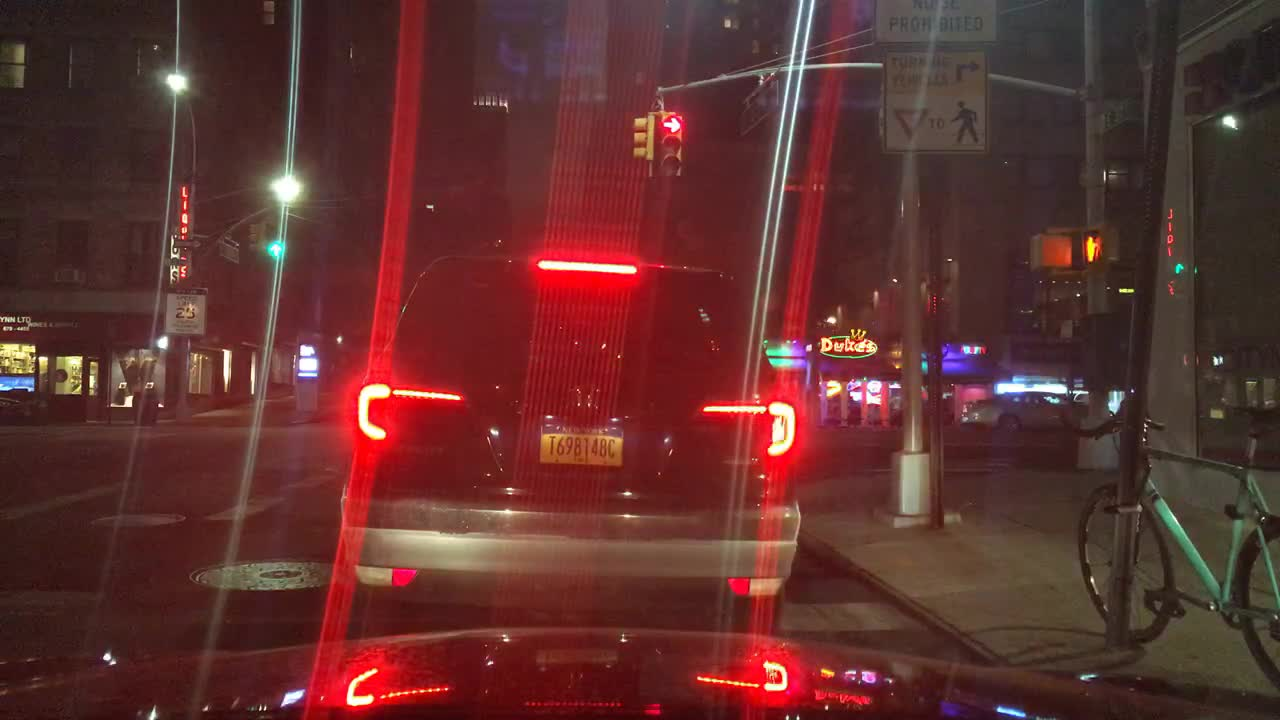bike: (1053, 387, 1278, 693)
car: (334, 250, 803, 633), (959, 387, 1072, 432), (873, 383, 932, 429), (1, 385, 51, 429), (820, 381, 868, 423)
traffic light: (656, 109, 681, 177), (1025, 235, 1072, 271), (1076, 228, 1112, 268), (630, 116, 653, 172), (261, 219, 280, 256), (247, 217, 259, 256)
traffic sign: (882, 46, 990, 154), (875, 2, 999, 44), (733, 68, 782, 138), (167, 285, 209, 334), (217, 233, 242, 262), (172, 233, 203, 250), (167, 257, 195, 268)
